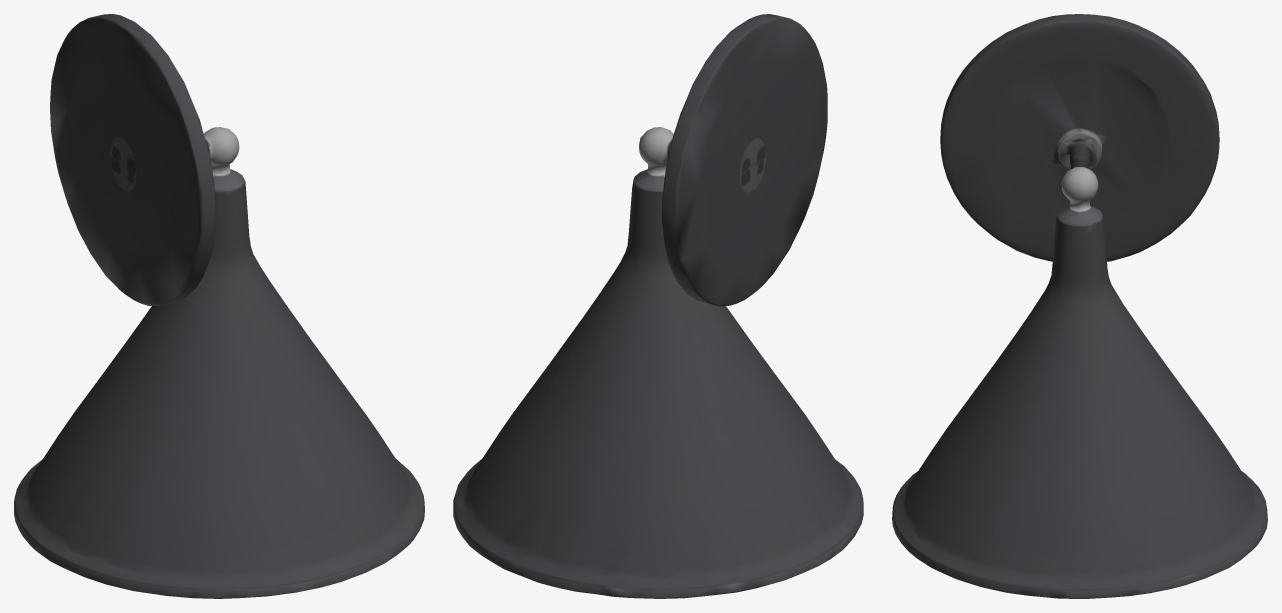
File: LamparaLuces.fbx
3 views of the same model, side by side, from view 1: azimuth 30°, elevation 25°; view 2: azimuth 150°, elevation 25°; view 3: azimuth 270°, elevation 25° (orthographic). The views are drawn at different scales.
Visible parts, largest first — view 1: tripo_node_894776dc; view 2: tripo_node_894776dc; view 3: tripo_node_894776dc.
Boxes of the visible parts, x1,y1,x2,y2 form: tripo_node_894776dc: (14, 14, 424, 598); tripo_node_894776dc: (453, 14, 863, 598); tripo_node_894776dc: (892, 14, 1267, 598).
Bounding box in the file's own units: 0.7337 × 1 × 0.7336.
Materials: 1 (1 with a texture image).
